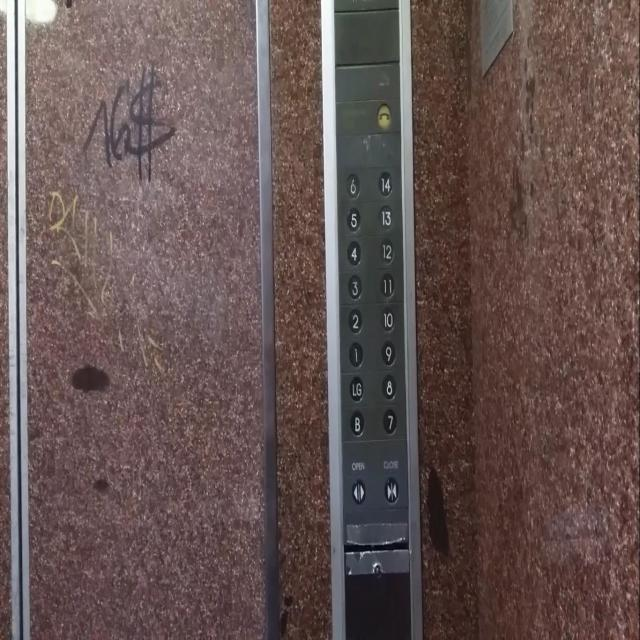1: (348, 339, 364, 368)
10: (380, 304, 395, 333)
11: (379, 271, 395, 298)
12: (378, 238, 394, 265)
13: (378, 205, 393, 229)
14: (377, 170, 393, 197)
2: (347, 307, 363, 334)
3: (347, 273, 363, 301)
4: (346, 239, 361, 266)
5: (346, 205, 361, 233)
6: (345, 172, 361, 200)
7: (382, 406, 398, 436)
8: (381, 373, 396, 400)
9: (380, 338, 396, 366)
B: (349, 407, 365, 438)
LG: (349, 374, 364, 404)
call: (376, 102, 392, 128)
close: (384, 476, 399, 504)
open: (351, 477, 365, 505)
